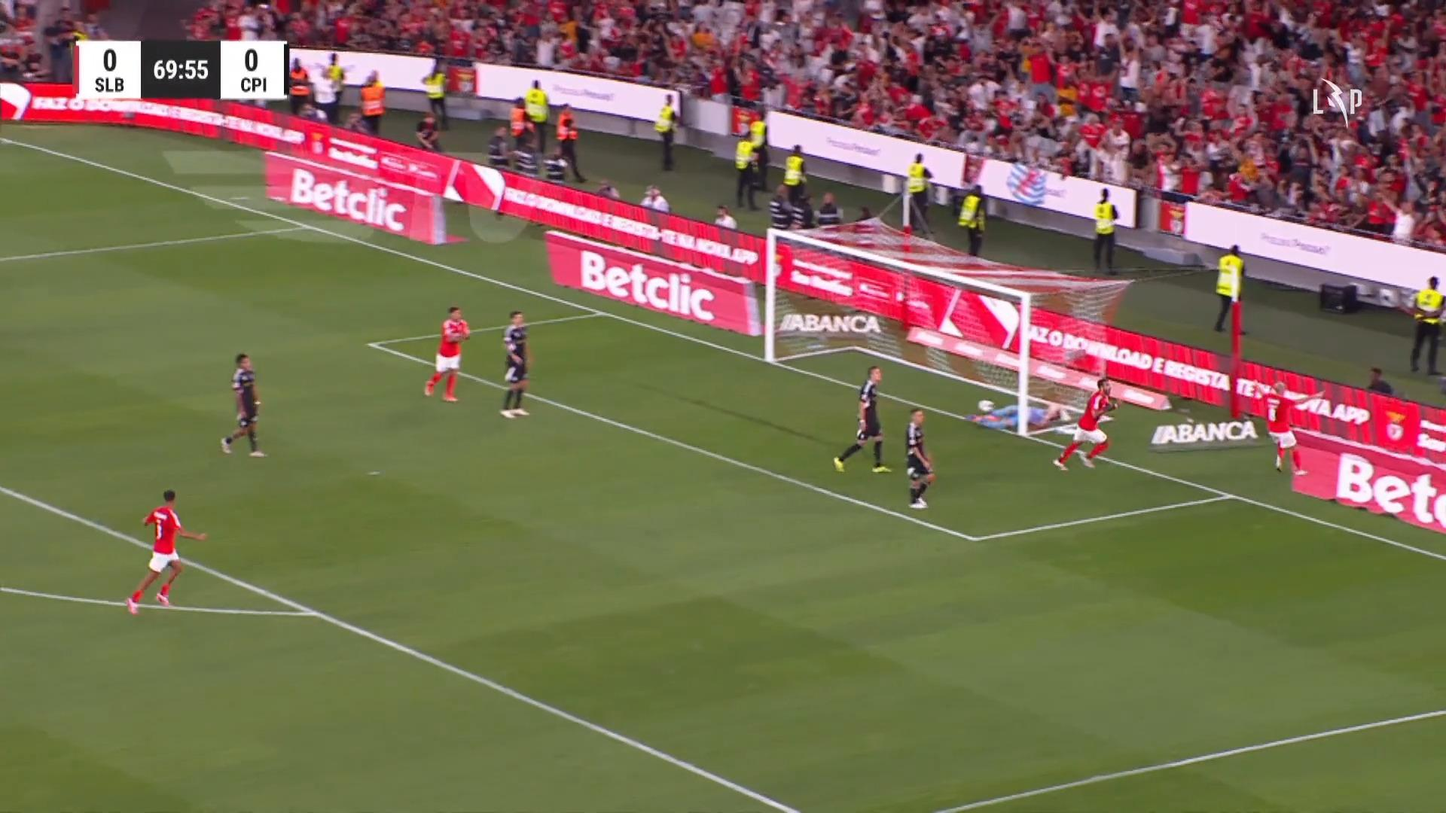ball: (978, 399, 994, 413), (1273, 381, 1285, 393)
goalkeeper: (963, 402, 1065, 434)
player: (124, 488, 207, 615), (831, 364, 892, 473), (1051, 376, 1118, 470), (1262, 379, 1325, 476), (219, 352, 268, 457), (423, 306, 470, 402), (499, 309, 532, 417), (904, 408, 935, 508)
